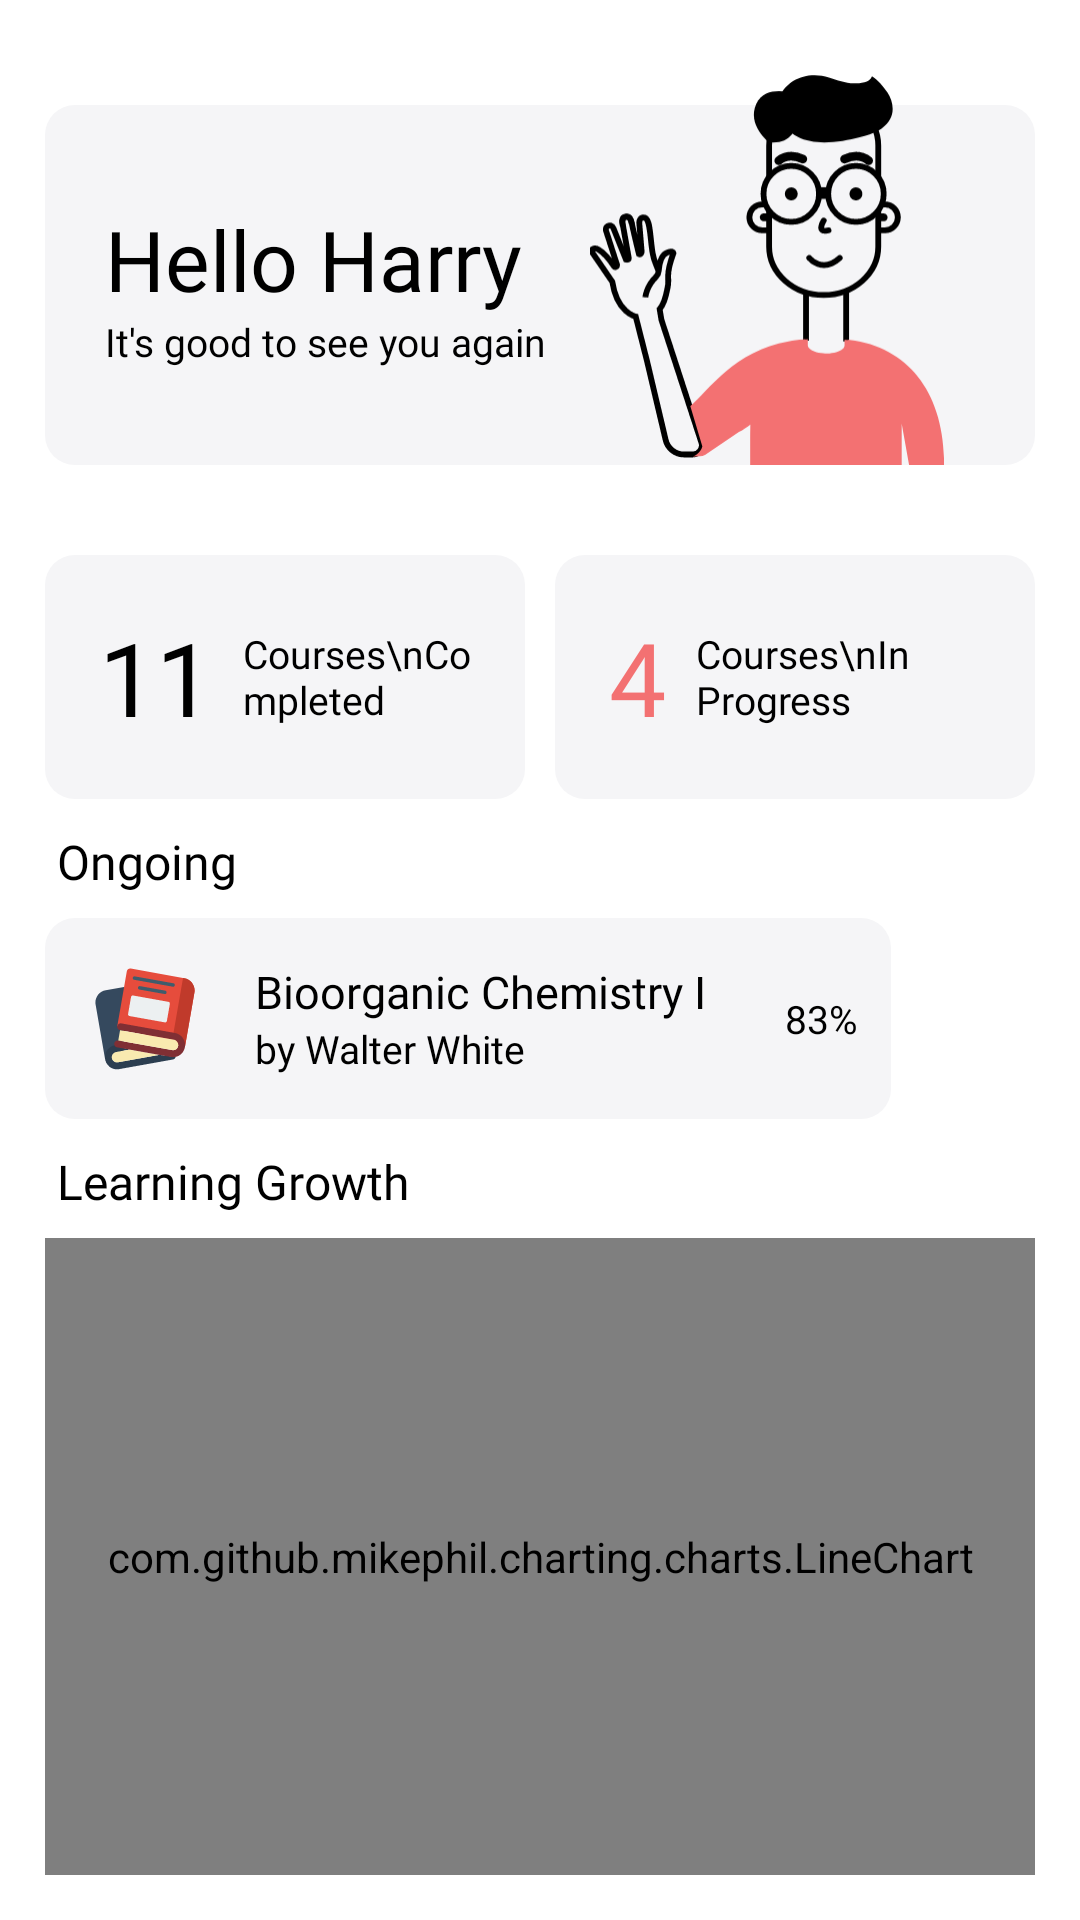

Screen size 1080×1920. Icon name, then its center in pixels as (x=x, y=y):
books: (x=145, y=1019)
